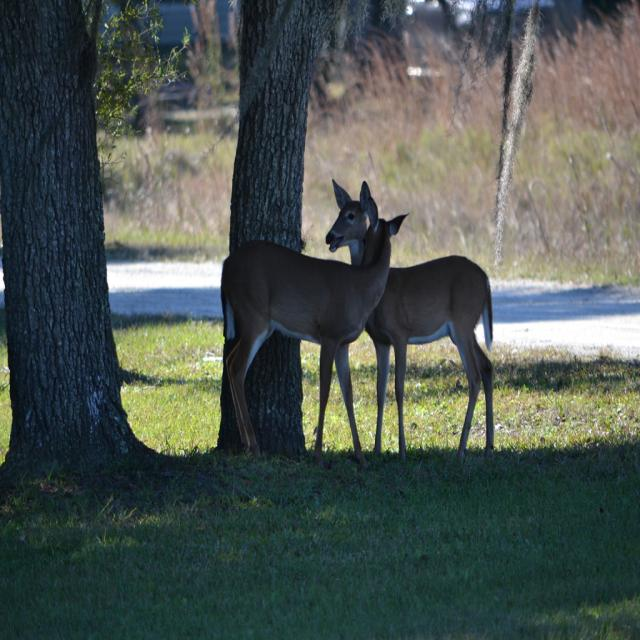Deer: (223, 193, 408, 453), (326, 176, 494, 456)
